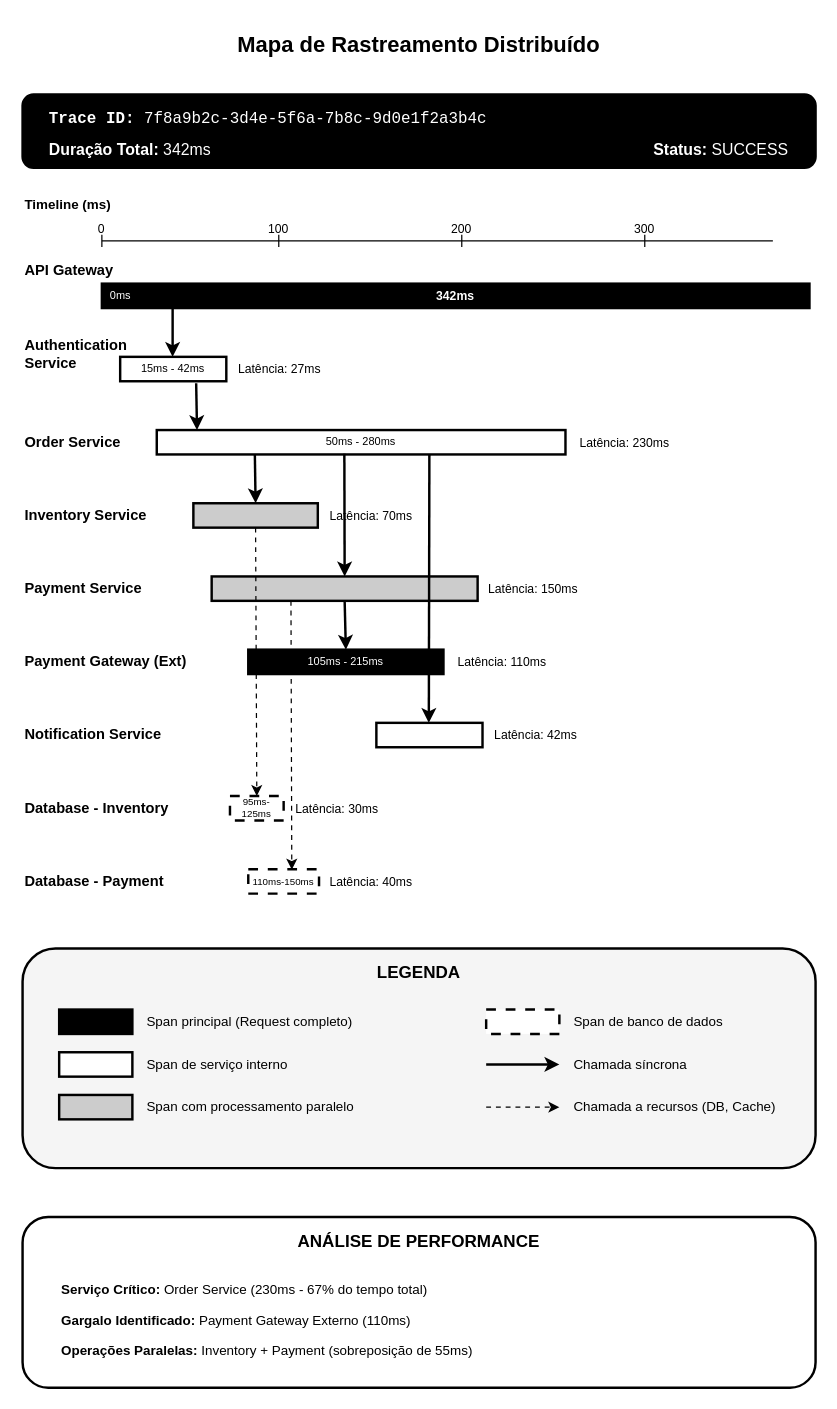
Some shapes in this 837 by 1409 pixel diagram are drawn without their labels. Each missing label, with the box of its shape:
255ms - 297ms: (375, 721, 483, 748)
70ms - 140ms: (192, 501, 318, 528)
85ms - 235ms: (210, 575, 478, 601)
